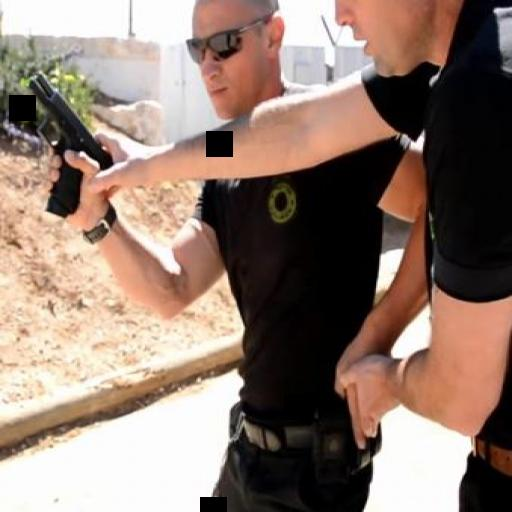Handgun: (20, 70, 116, 218)
